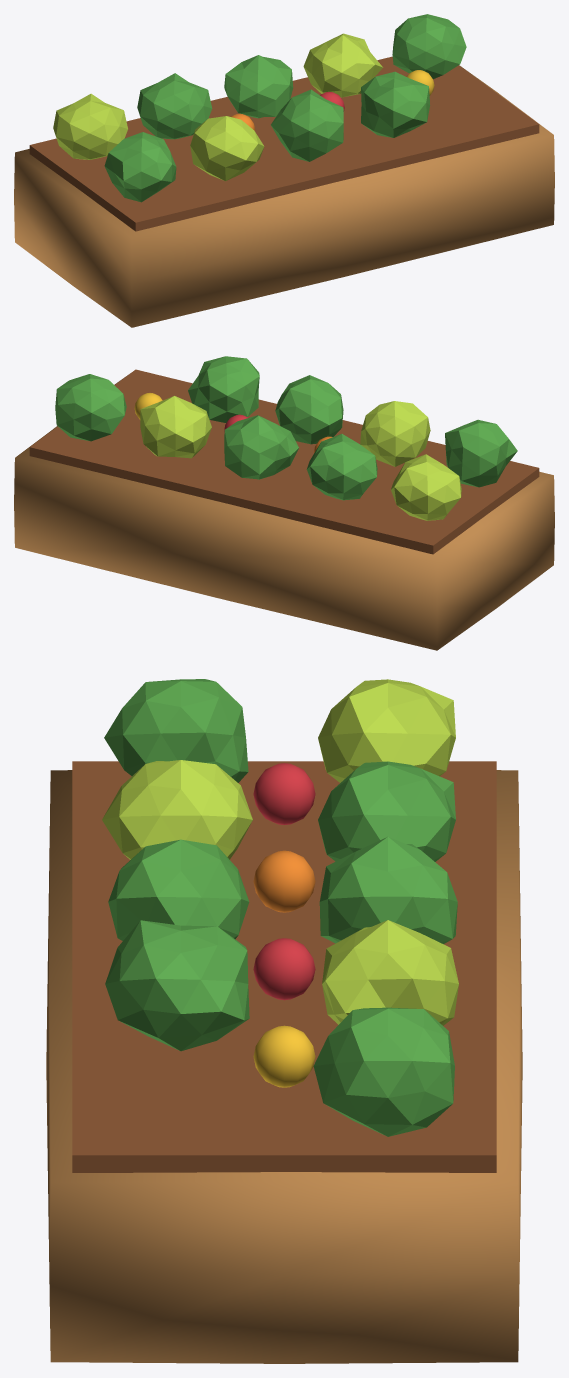
File: planter_box.glb
3 views of the same model, one above another, from view 1: azimuth 30°, elevation 25°; view 2: azimuth 150°, elevation 25°; view 3: azimuth 270°, elevation 25° (orthographic). The views are drawn at different scales.
Parts seen in each view (by area): view 1: root; view 2: root; view 3: root.
Part boxes in pixels (x1=…): root: x1=14, y1=14, x2=554, y2=327; root: x1=14, y1=356, x2=554, y2=650; root: x1=46, y1=679, x2=522, y2=1363.
Size of the model in its own units: 1.9 by 0.6891 by 0.92.
